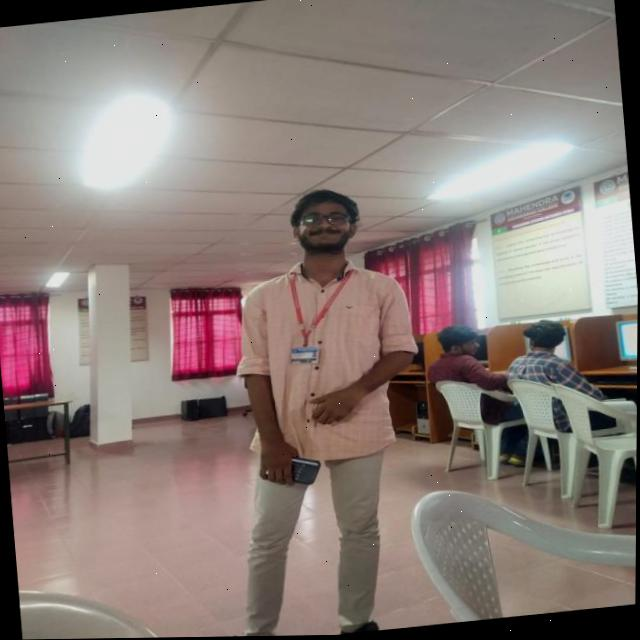id_card: (274, 263, 364, 371)
